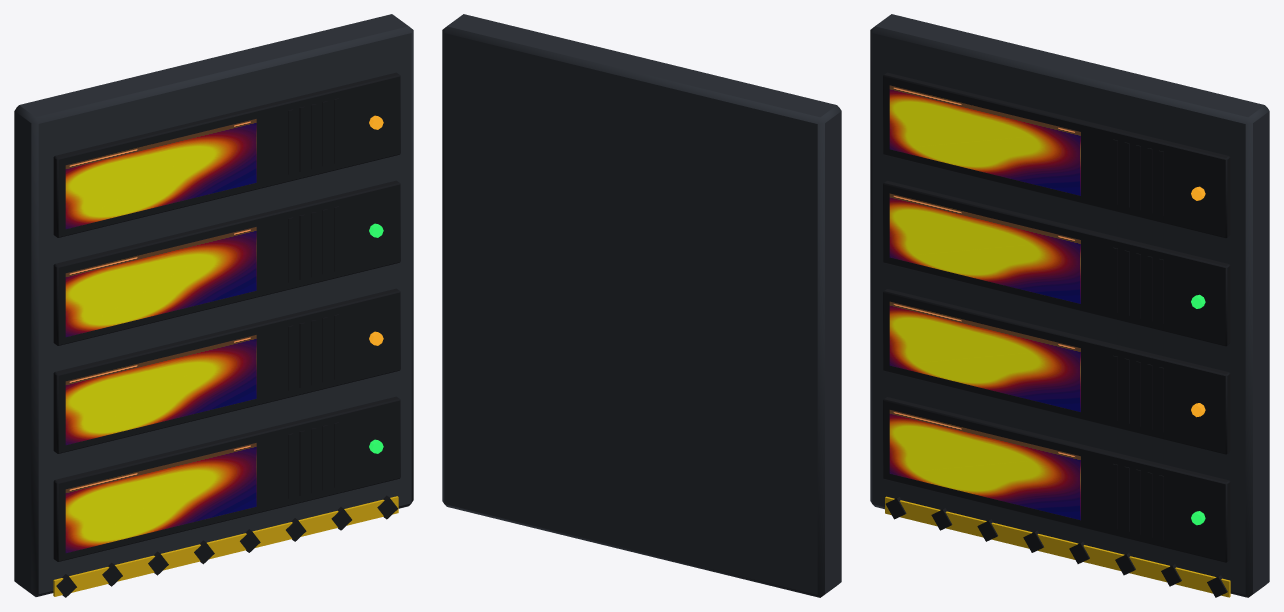
The model's file is display_diagnostic_rack.glb.
3 renders of one model, left to right at view 1: azimuth 30°, elevation 25°; view 2: azimuth 150°, elevation 25°; view 3: azimuth 330°, elevation 25°, orthographic.
Parts seen in each view (by area): view 1: display_diagnostic_rack; view 2: display_diagnostic_rack; view 3: display_diagnostic_rack.
Part boxes in pixels (x1=…): display_diagnostic_rack: x1=14, y1=14, x2=413, y2=597; display_diagnostic_rack: x1=442, y1=14, x2=841, y2=597; display_diagnostic_rack: x1=870, y1=14, x2=1269, y2=597.
Size of the model in its own units: 1 by 1.21 by 0.135.
Materials: 6 (1 with a texture image).
